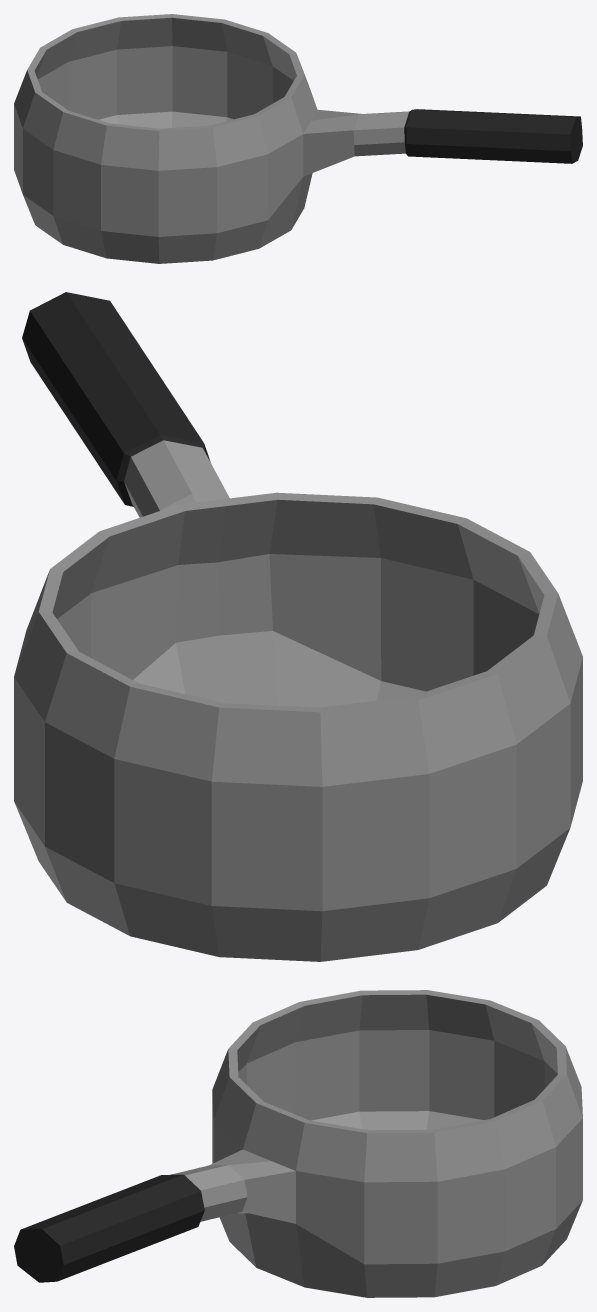
Rendered from Sarten.fbx.
3 views of the same model, one above another, from view 1: azimuth 30°, elevation 25°; view 2: azimuth 150°, elevation 25°; view 3: azimuth 270°, elevation 25° (orthographic). The views are drawn at different scales.
Parts seen in each view (by area): view 1: Cylinder2.001, Cylinder1.001; view 2: Cylinder2.001, Cylinder1.001; view 3: Cylinder2.001, Cylinder1.001.
Boxes of the visible parts, <box> form: Cylinder2.001: <box>14,14,409,263</box>; Cylinder1.001: <box>404,109,582,163</box>; Cylinder2.001: <box>14,440,582,961</box>; Cylinder1.001: <box>22,292,210,506</box>; Cylinder2.001: <box>170,990,582,1297</box>; Cylinder1.001: <box>14,1174,204,1282</box>.
Bounding box in the file's own units: 70.35 × 72.79 × 22.46.
Materials: 1 (1 with a texture image).
